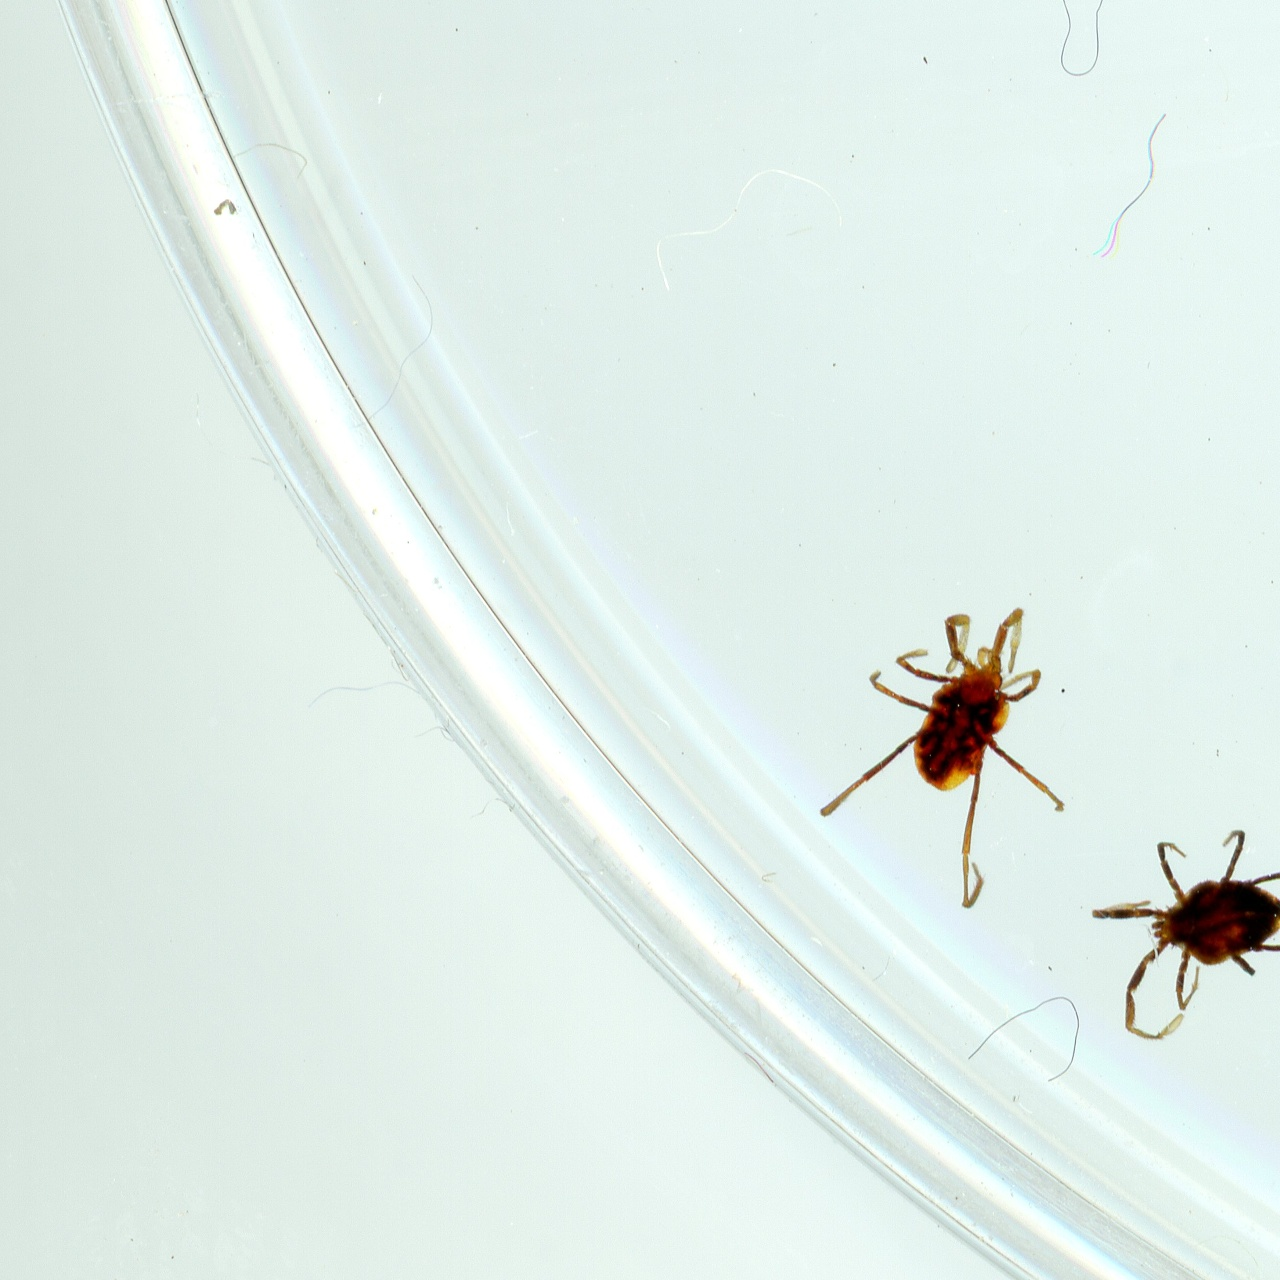arthropod: (815, 602, 1070, 913), (1087, 823, 1280, 1049)
